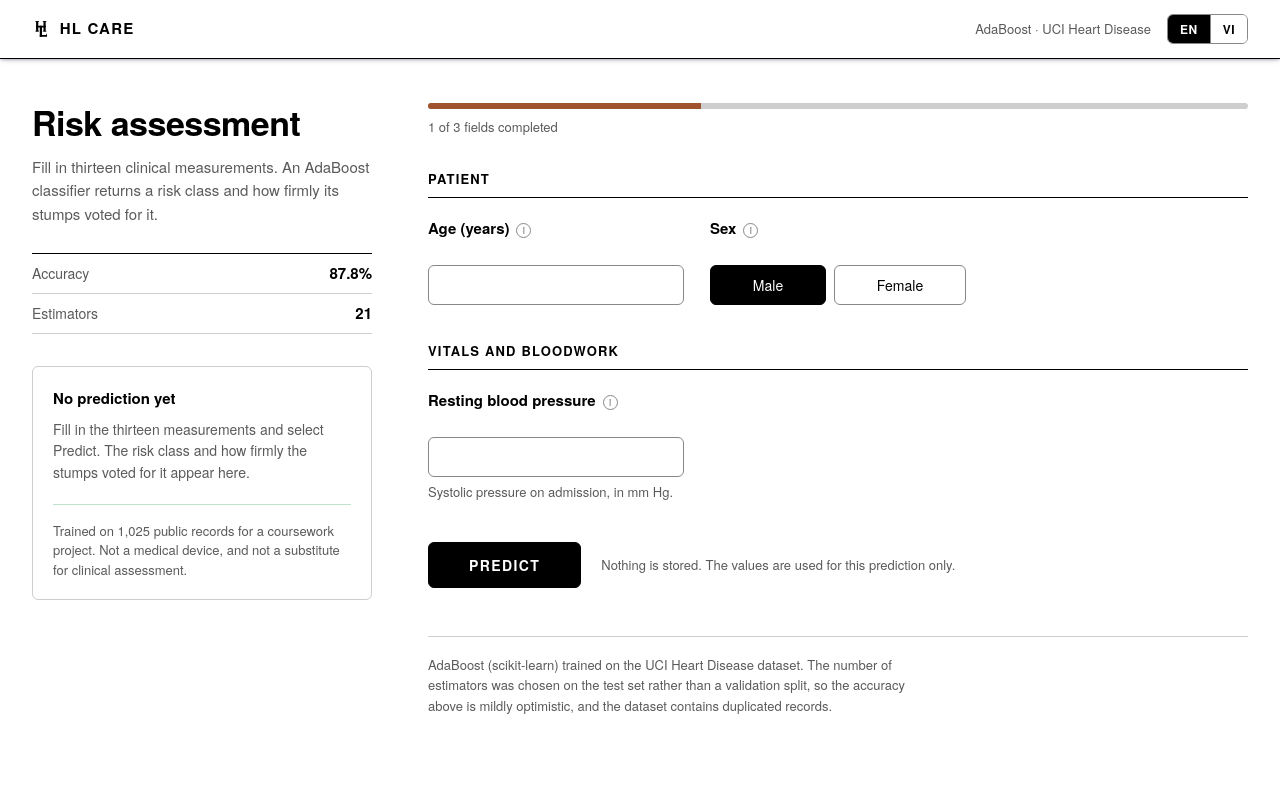
Scenario: the form › flags an empty required field as soon as it is left, without a submit
This screenshot has width=1280, height=800.
Click the number field labelled "Age (years) i". click: {"x": 556, "y": 285}
box: [428,265,684,305]
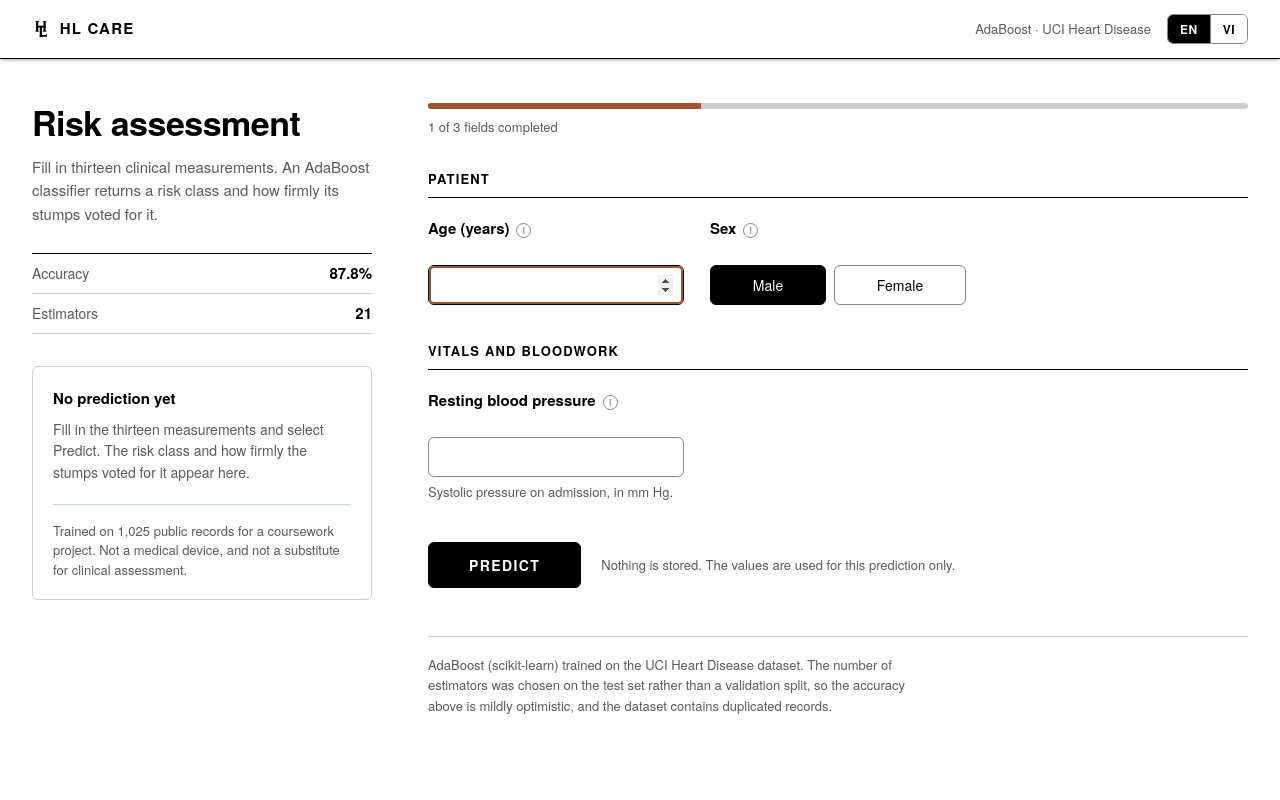
Press Tab
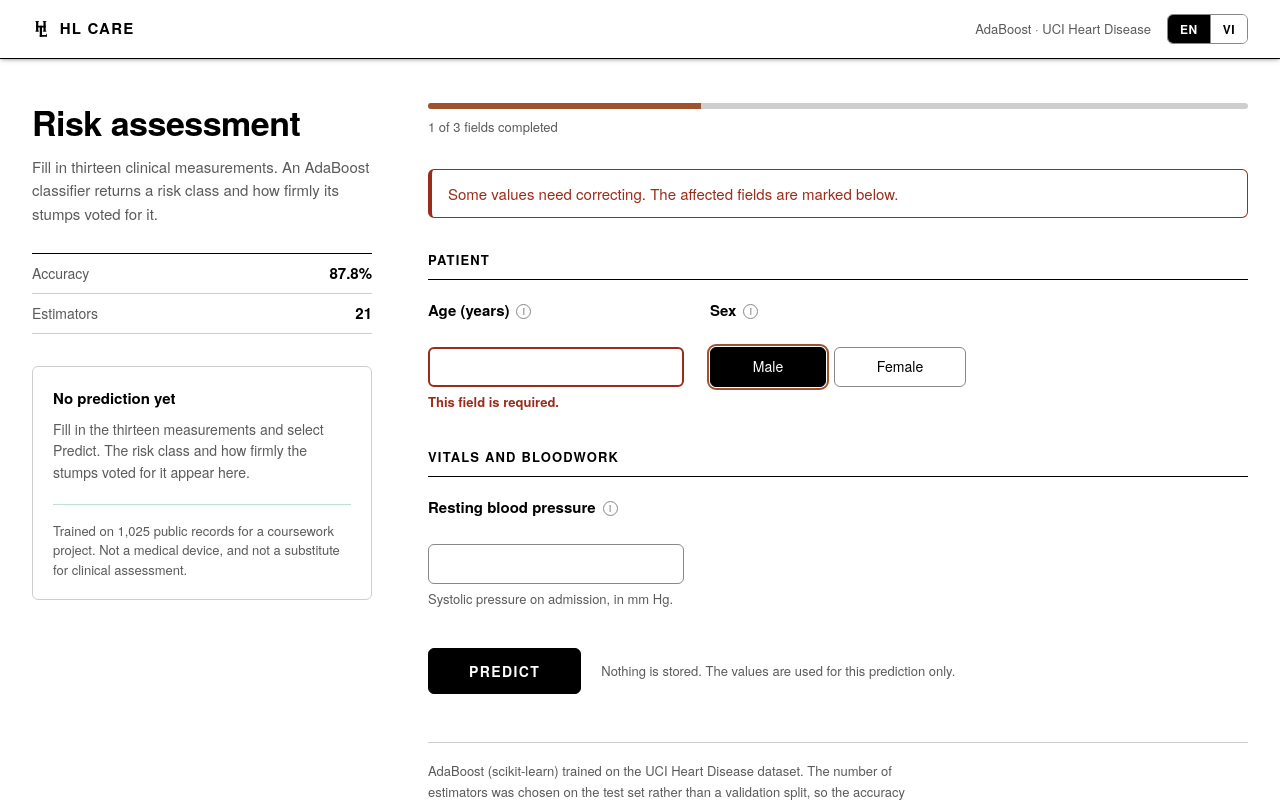
Expected: the text "This field is required." is shown, [428,392,559,410]
